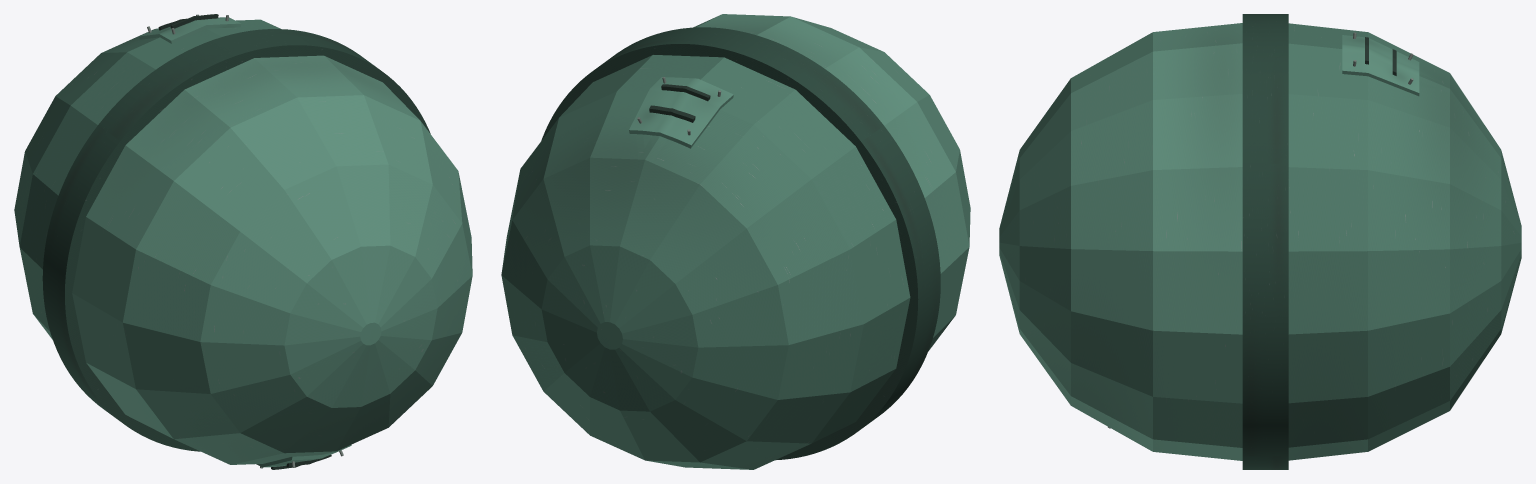
The picture shows the model from 3 angles, left to right: view 1: azimuth 30°, elevation 25°; view 2: azimuth 150°, elevation 25°; view 3: azimuth 270°, elevation 25°; orthographic projection. The views are drawn at different scales.
Parts seen in each view (by area): view 1: Artemian Standard Warhead forward metal shell, Artemian Standard Warhead dark transverse belt, Artemian Standard Warhead rear metal shell, Artemian Standard Warhead service cover 1; view 2: Artemian Standard Warhead rear metal shell, Artemian Standard Warhead dark transverse belt, Artemian Standard Warhead forward metal shell, Artemian Standard Warhead service cover 1; view 3: Artemian Standard Warhead forward metal shell, Artemian Standard Warhead rear metal shell, Artemian Standard Warhead dark transverse belt, Artemian Standard Warhead service cover 1.
Part boxes in pixels (x1,y1,x2,y2): Artemian Standard Warhead forward metal shell: (72,55,472,464); Artemian Standard Warhead dark transverse belt: (42,29,430,451); Artemian Standard Warhead rear metal shell: (14,19,280,339); Artemian Standard Warhead service cover 1: (139,17,241,43); Artemian Standard Warhead rear metal shell: (501,55,910,469); Artemian Standard Warhead dark transverse belt: (541,27,940,460); Artemian Standard Warhead forward metal shell: (693,14,970,351); Artemian Standard Warhead service cover 1: (629,77,733,148); Artemian Standard Warhead forward metal shell: (999,23,1242,460); Artemian Standard Warhead rear metal shell: (1288,23,1521,460); Artemian Standard Warhead dark transverse belt: (1242,14,1288,469); Artemian Standard Warhead service cover 1: (1342,35,1419,96).
Bounding box in the file's own units: 0.89 × 0.89 × 1.02.
5 materials, 3 textured.
